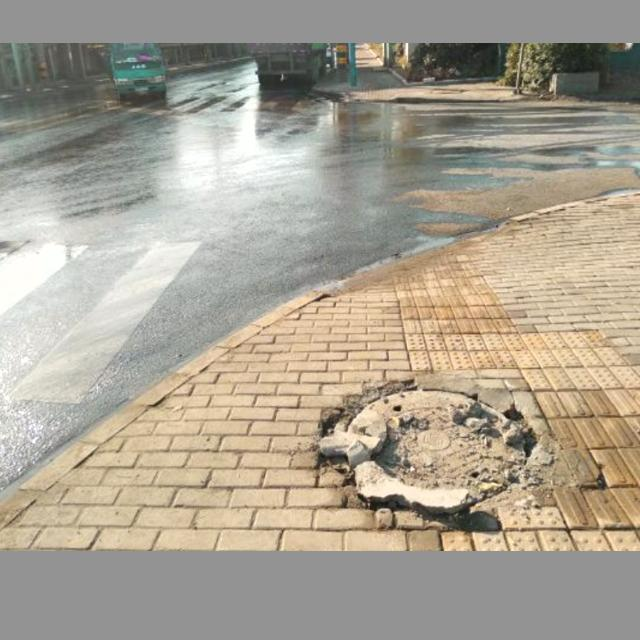circle: (317, 364, 562, 519)
